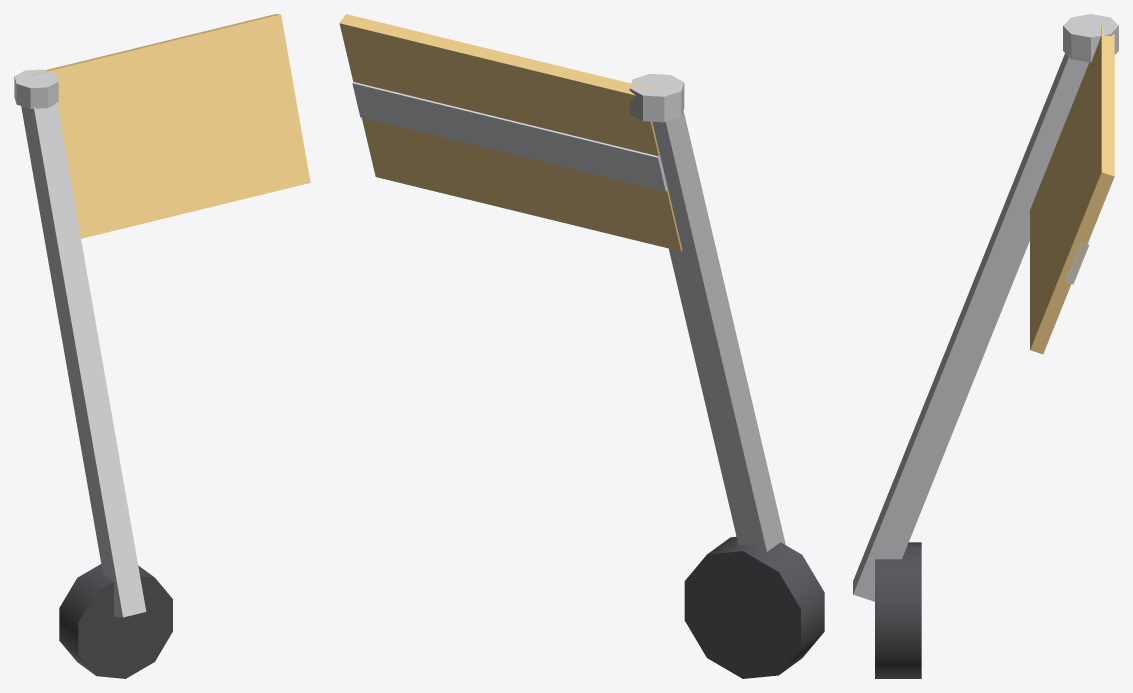
Rendered from acc_mascot_flag.glb.
The picture shows the model from 3 angles, left to right: view 1: azimuth 30°, elevation 25°; view 2: azimuth 150°, elevation 25°; view 3: azimuth 270°, elevation 25°; orthographic projection. The views are drawn at different scales.
Visible parts, largest first — view 1: acc_mascot_flag_mesh; view 2: acc_mascot_flag_mesh; view 3: acc_mascot_flag_mesh.
Part boxes in pixels (<box>): acc_mascot_flag_mesh: <box>14,14,310,678</box>; acc_mascot_flag_mesh: <box>339,14,824,678</box>; acc_mascot_flag_mesh: <box>853,14,1118,678</box>.
Size of the model in its own units: 0.1785 by 0.3083 by 0.1145.
